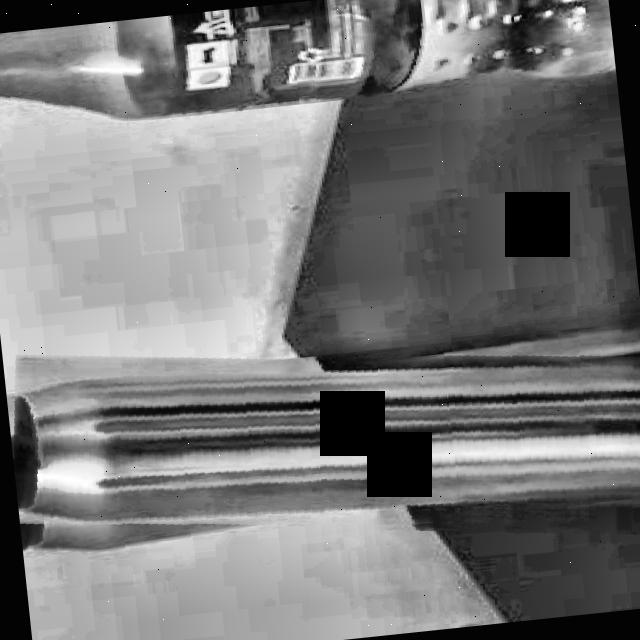bottle: (13, 357, 640, 523), (0, 0, 615, 119)
